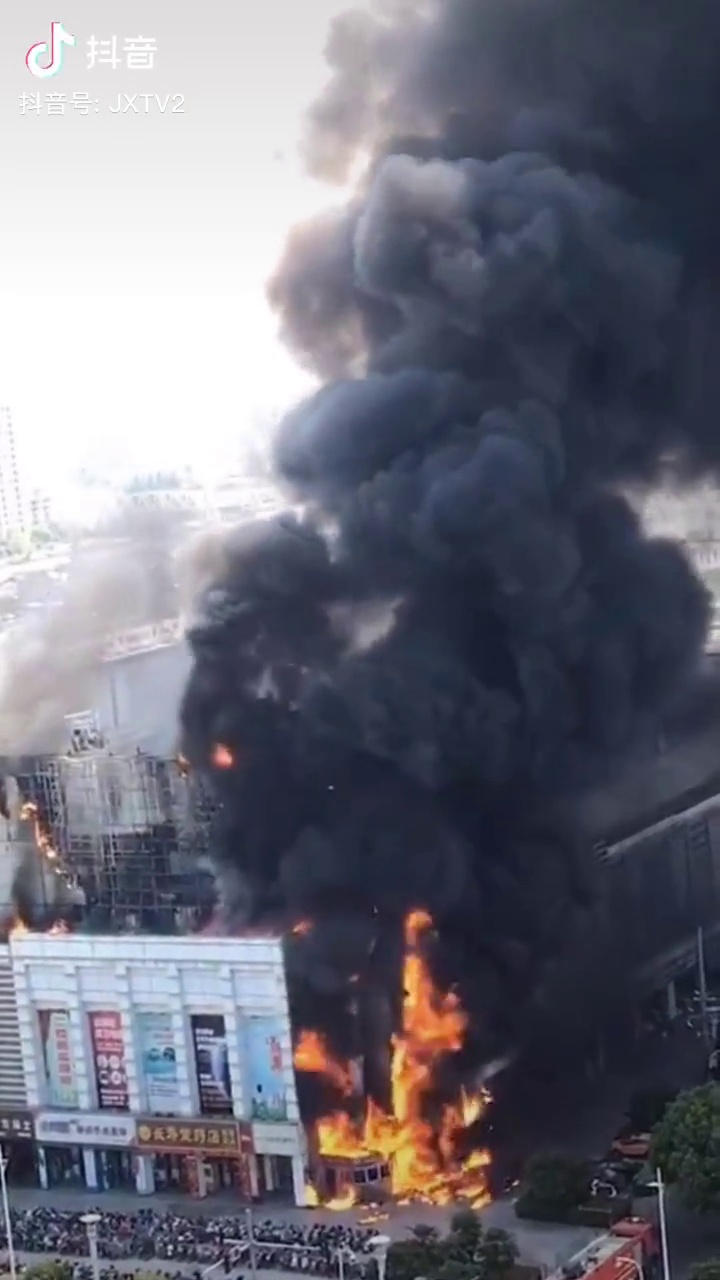fire: (300, 990, 500, 1204)
smoke: (194, 18, 684, 996)
